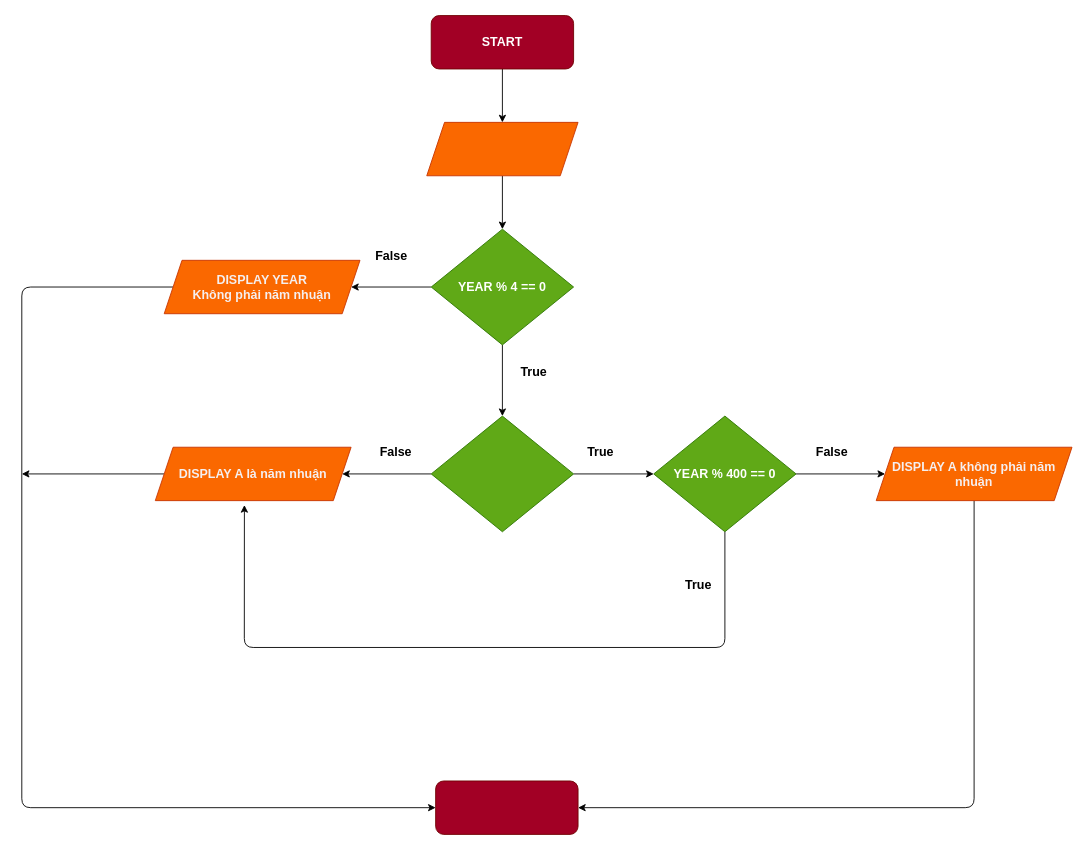
Some shapes in this 1088 by 850 pixel diagram are drawn without their labels. The shapes that lost their labels are listed below. From the top down, each one's centre as x and y in pixels, then its label:
[502,148]: INPUT YEAR
[502,473]: YEAR % 100 == 0
[506,807]: END
